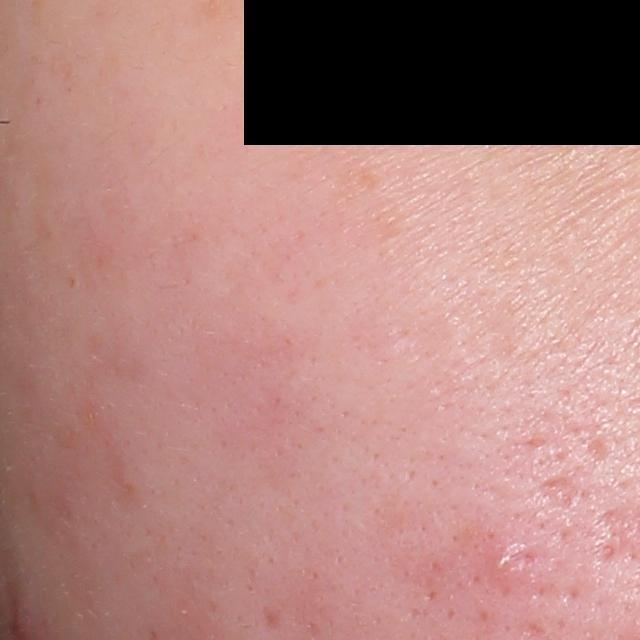atrophic_scar: (525, 470, 586, 517), (257, 604, 287, 635), (585, 436, 613, 469)
papule: (487, 542, 523, 583)
